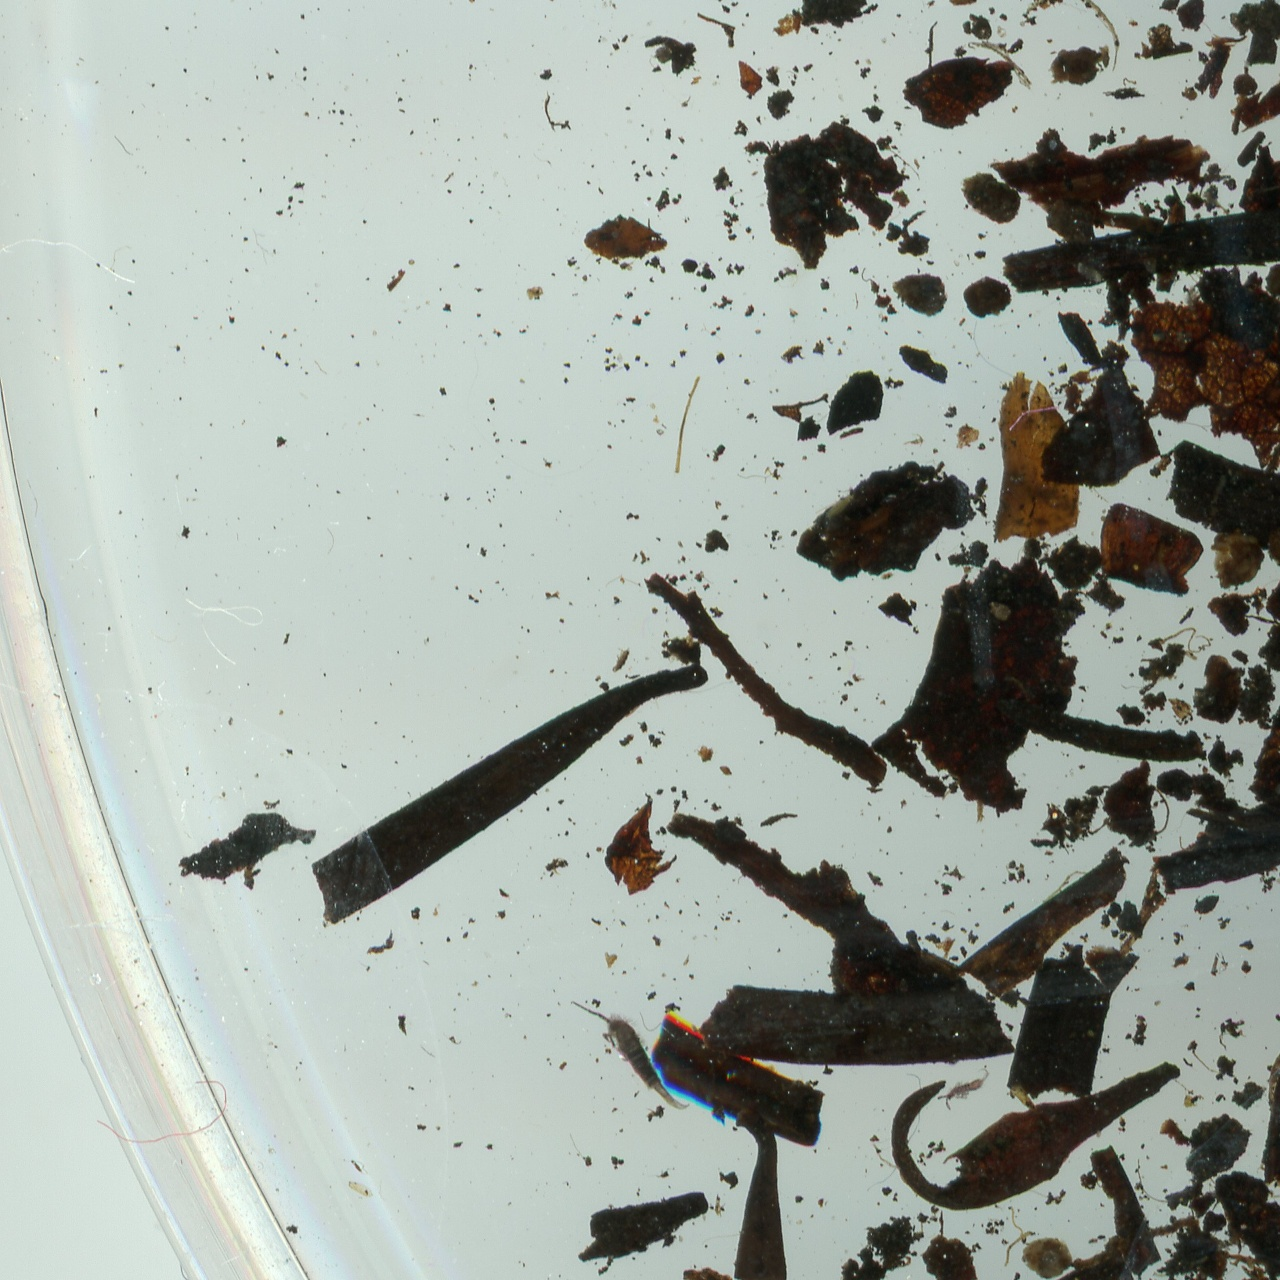arthropod: (568, 996, 688, 1114), (935, 1064, 1000, 1107)
